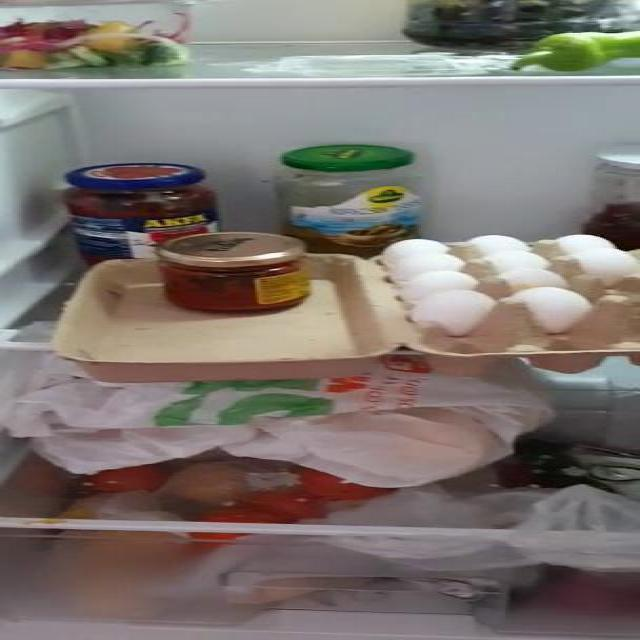eggs: (391, 239, 637, 330)
olives: (408, 0, 629, 42)
tomato: (236, 486, 327, 520), (90, 467, 170, 493)
